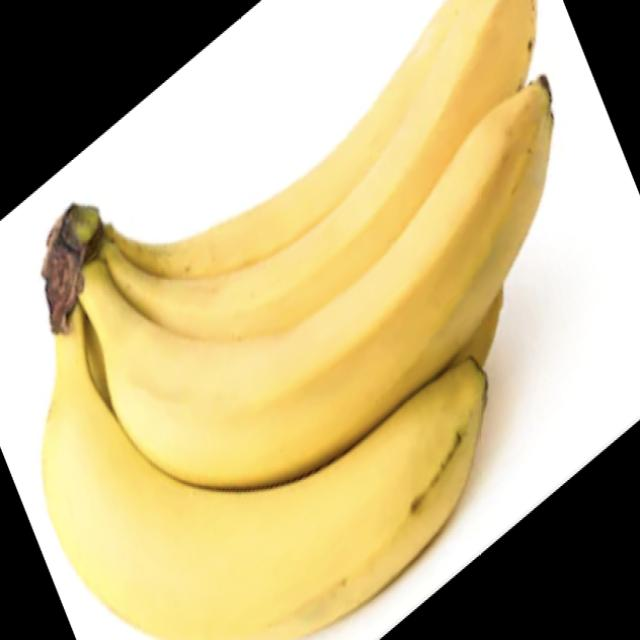god quality banana: (43, 1, 554, 638)
